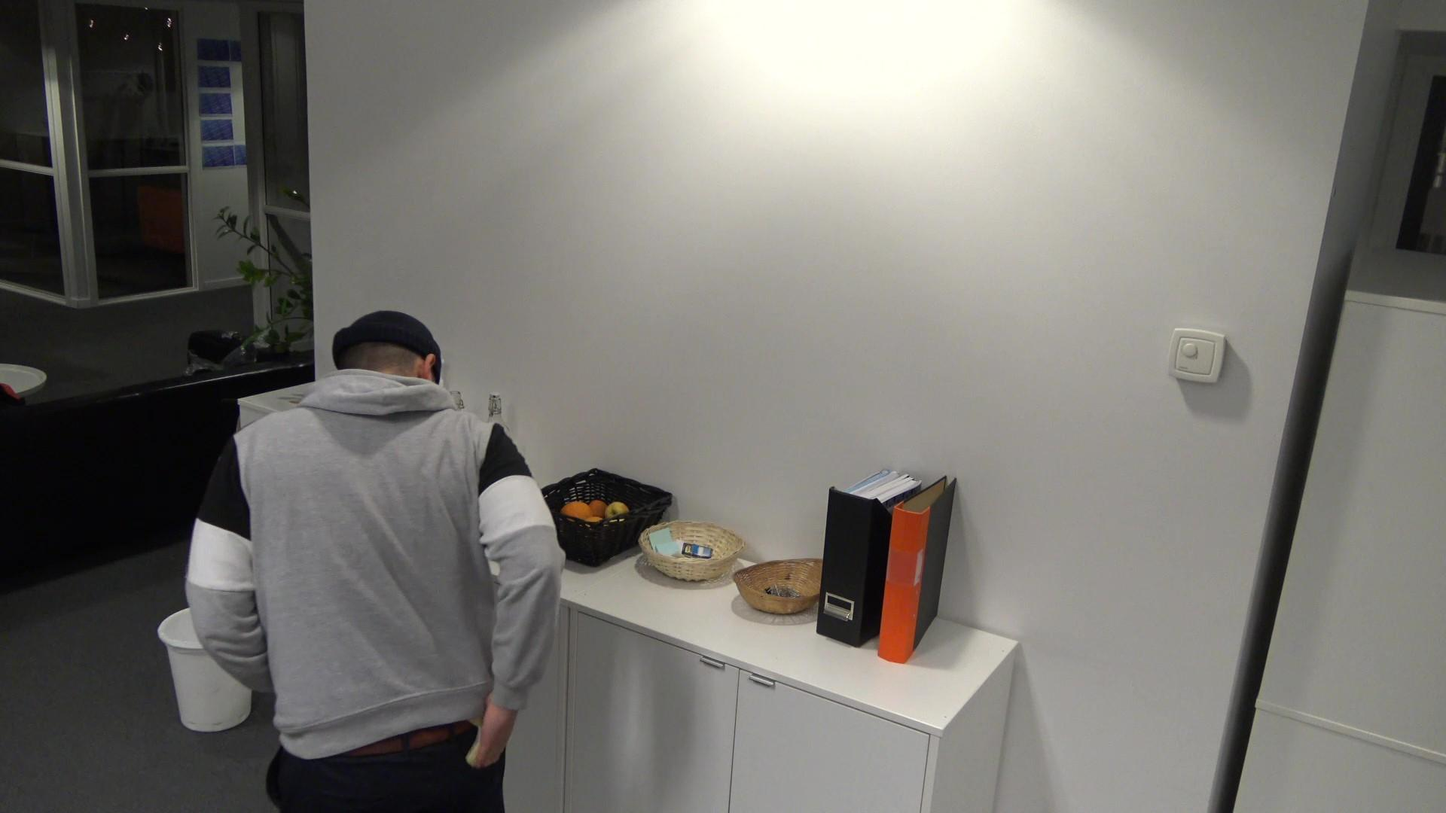shoplifting: (189, 315, 563, 813)
